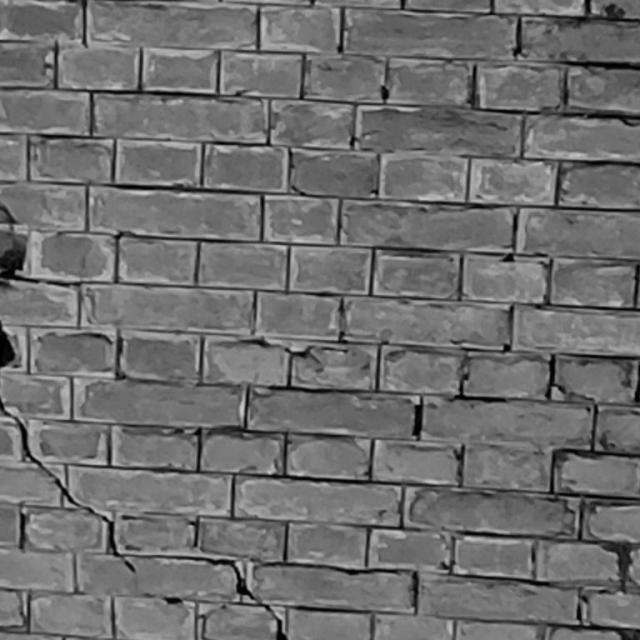crack: (0, 398, 182, 605), (185, 556, 287, 640), (1, 204, 41, 284), (1, 322, 17, 369)
